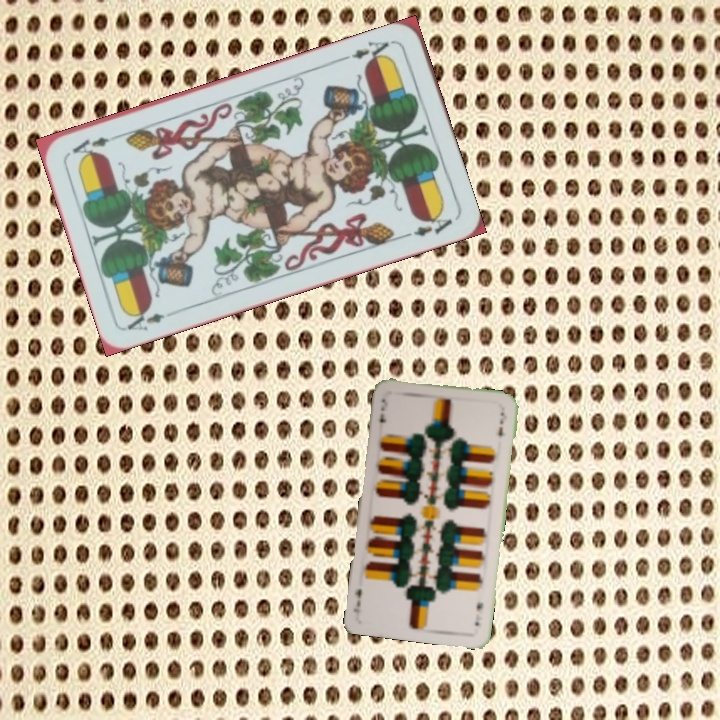E7: (471, 598, 486, 629), (376, 394, 391, 425)
EA: (347, 37, 393, 67), (123, 305, 168, 334)
